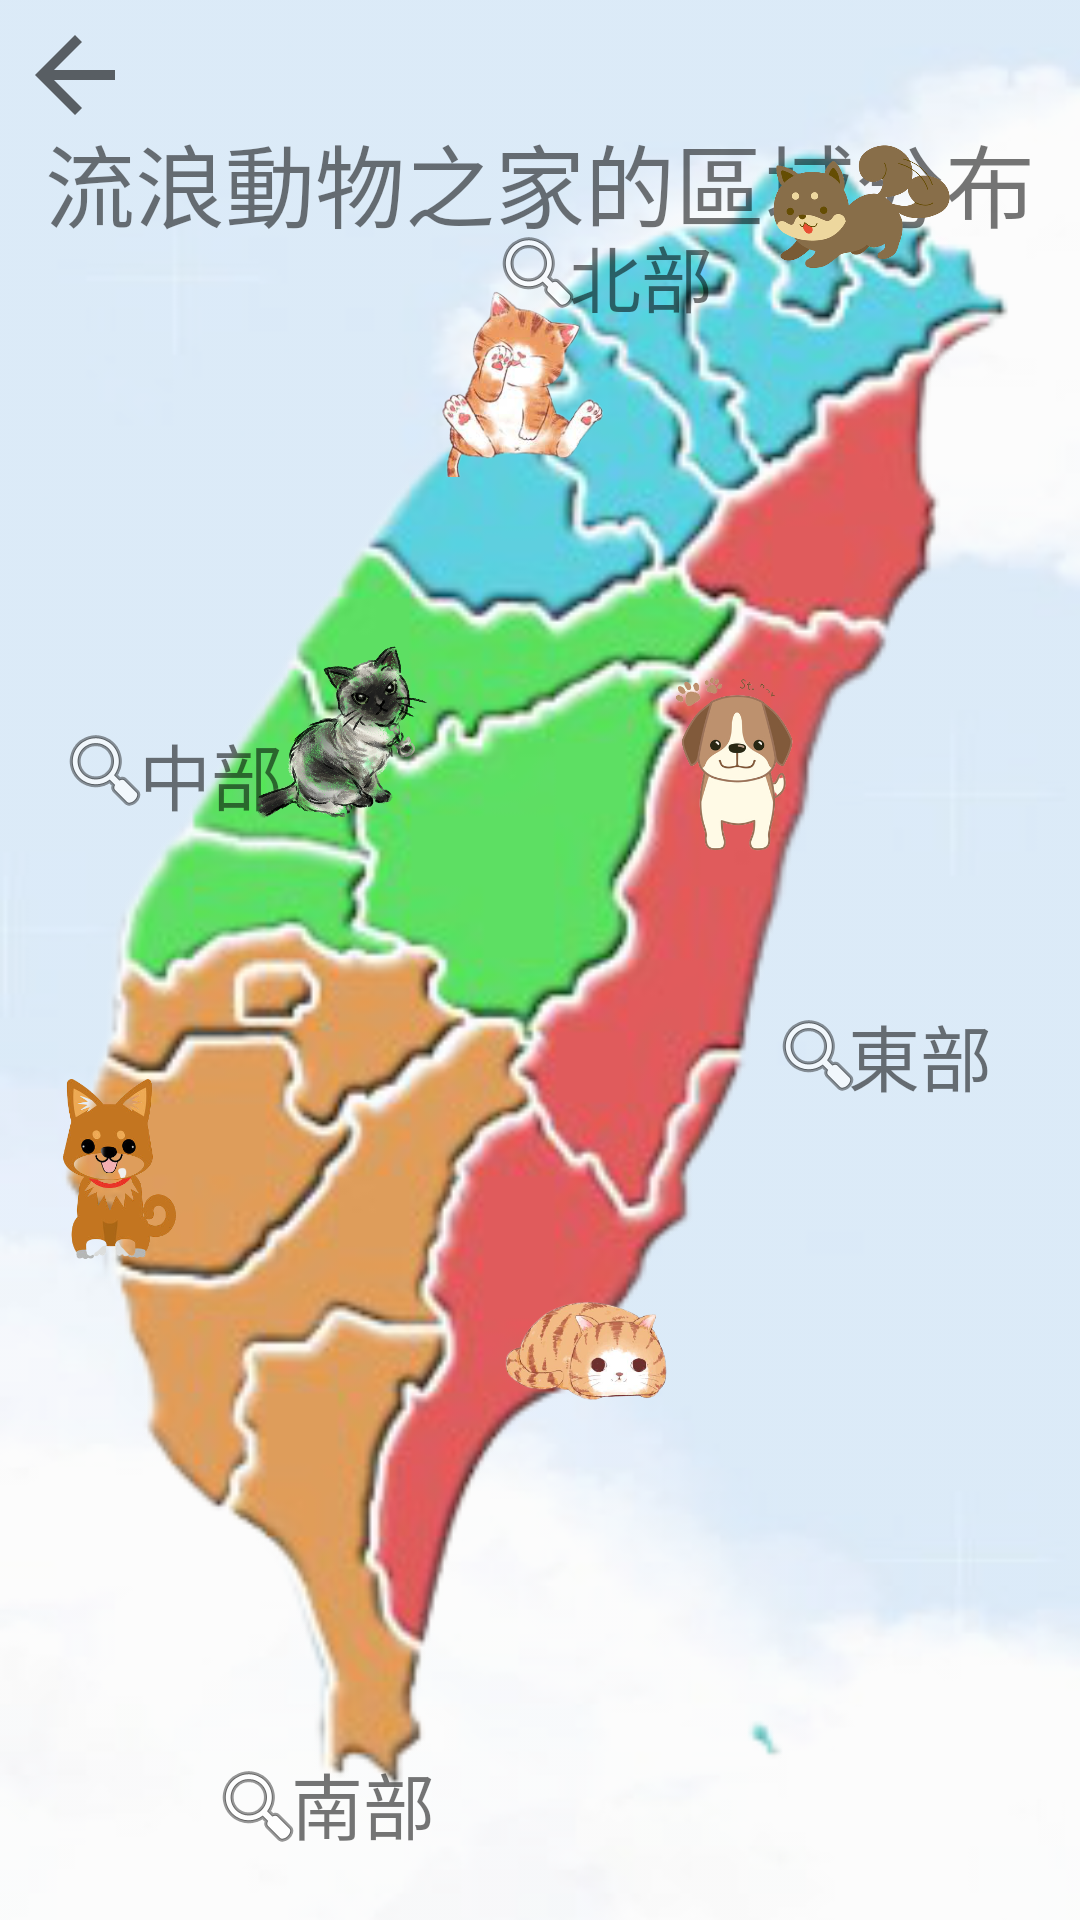

Screen size 1080x1920. Icon name, then its center in pixels as point (x, y):
dog: point (860, 209), point (737, 763), point (119, 1169)
